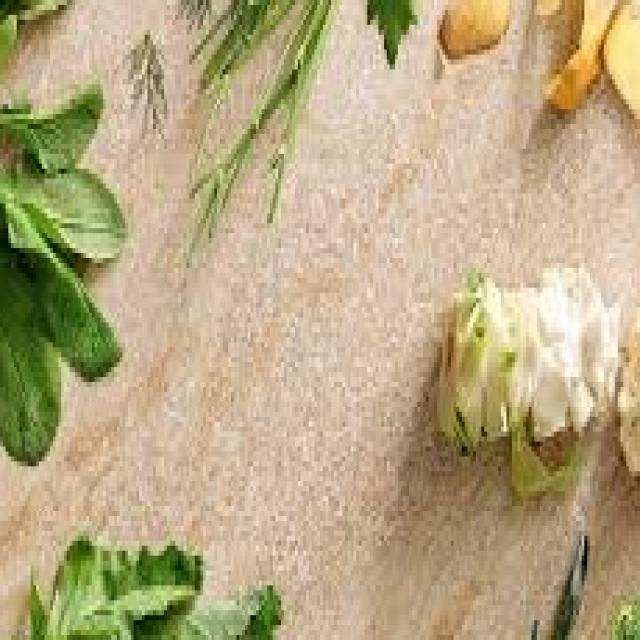inorganic: (3, 92, 146, 485), (437, 250, 624, 503), (165, 6, 336, 234), (361, 0, 640, 125), (27, 528, 301, 631)
